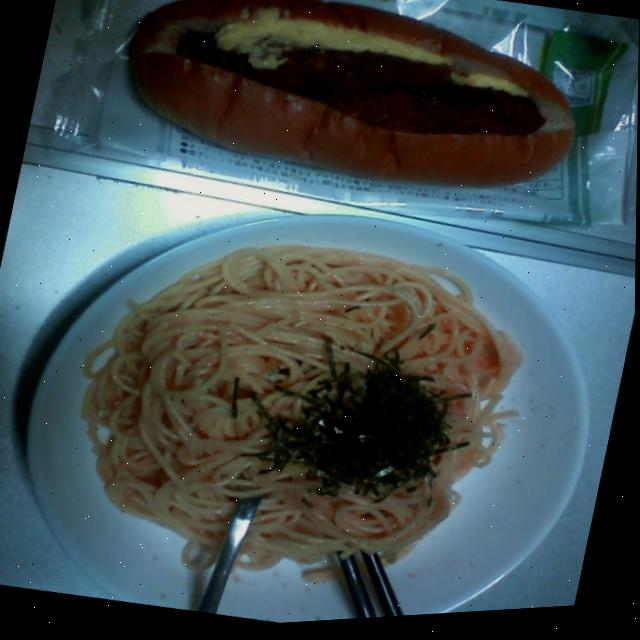三明治: (113, 0, 605, 236)
